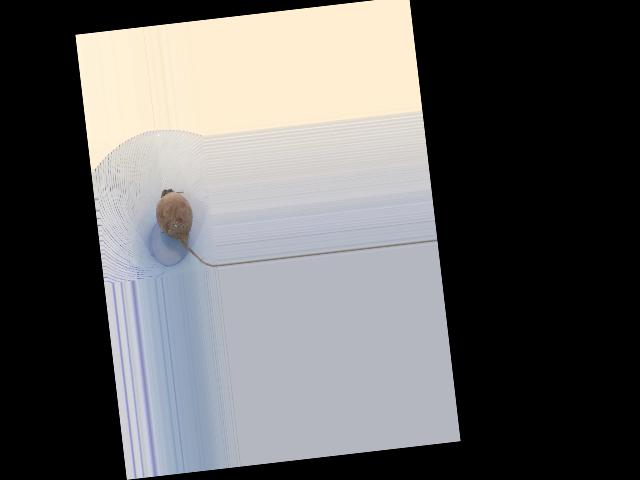beet: (153, 183, 218, 272)
